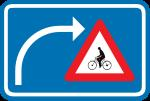Cycle Crossing: (78, 35, 131, 81)
